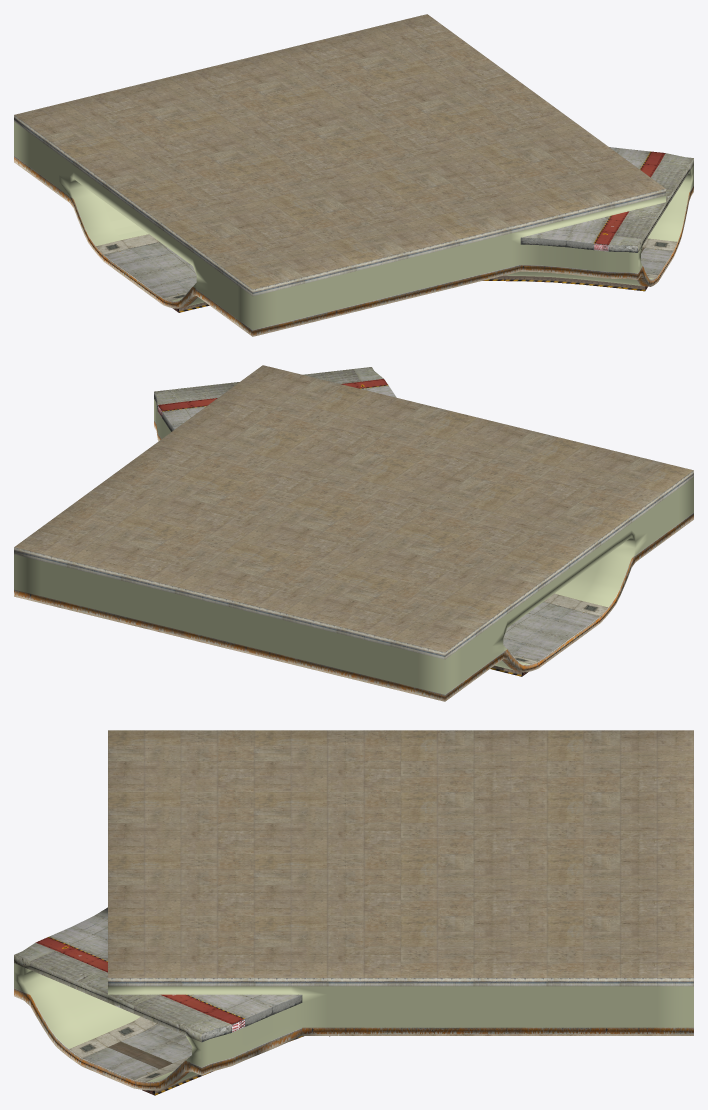
File: PlatformUnitHor_Right_Ls.fbx
The picture shows the model from 3 angles, top to bottom: view 1: azimuth 30°, elevation 25°; view 2: azimuth 150°, elevation 25°; view 3: azimuth 270°, elevation 25°; orthographic projection. The views are drawn at different scales.
Parts seen in each view (by area): view 1: PlatformUnitHor_Right_Ls_Lod0; view 2: PlatformUnitHor_Right_Ls_Lod0; view 3: PlatformUnitHor_Right_Ls_Lod0.
Part boxes in pixels (bbox=[...]): PlatformUnitHor_Right_Ls_Lod0: bbox=[14, 14, 693, 336]; PlatformUnitHor_Right_Ls_Lod0: bbox=[14, 365, 693, 701]; PlatformUnitHor_Right_Ls_Lod0: bbox=[14, 730, 693, 1095].
Bounding box in the file's own units: 74.26 × 12.69 × 74.25.
